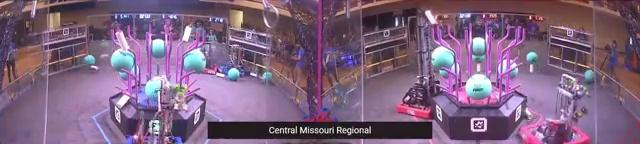reef: (429, 23, 528, 141), (111, 21, 207, 140)
robot: (395, 10, 445, 121), (518, 74, 592, 144), (124, 78, 190, 144), (219, 42, 249, 81), (196, 41, 221, 78)
